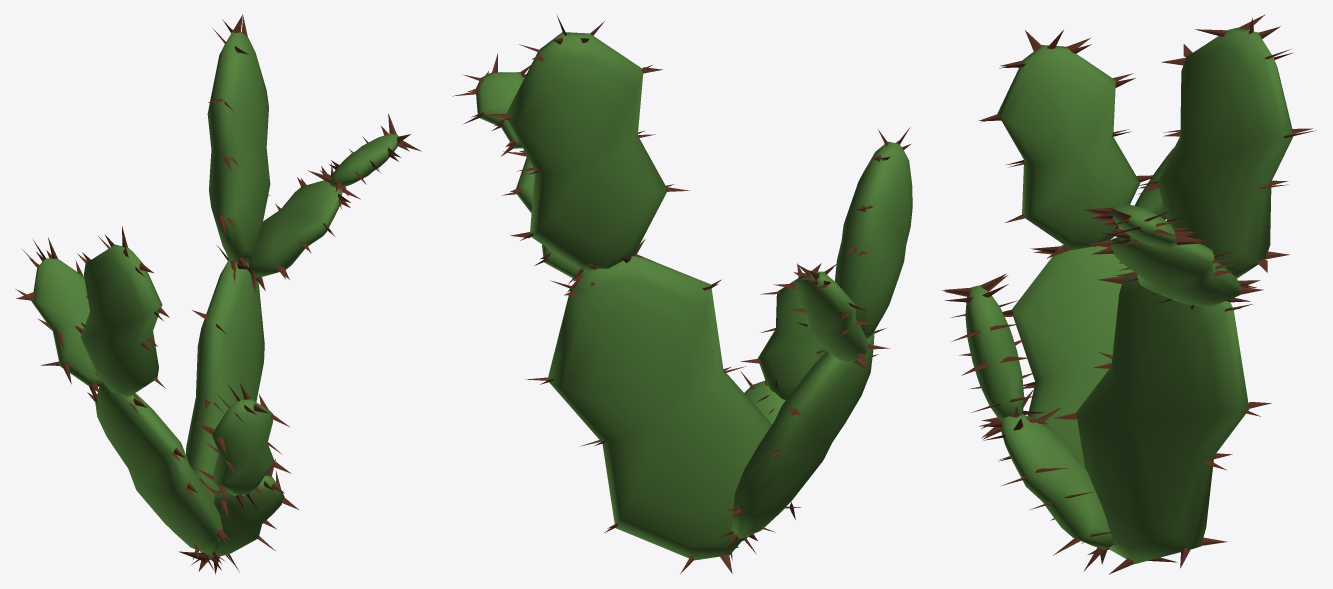
File: kaktus bez kvetu 2.2.fbx
3 renders of one model, left to right at view 1: azimuth 30°, elevation 25°; view 2: azimuth 150°, elevation 25°; view 3: azimuth 270°, elevation 25°, orthographic. The views are drawn at different scales.
Parts seen in each view (by area): view 1: Sphere.001; view 2: Sphere.001; view 3: Sphere.001.
Part boxes in pixels (x1=…): Sphere.001: x1=32, y1=31, x2=398, y2=560; Sphere.001: x1=476, y1=32, x2=912, y2=560; Sphere.001: x1=965, y1=27, x2=1293, y2=563.
Bounding box in the file's own units: 304 × 390 × 222.
